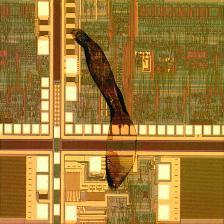COATING BAD: (69, 22, 143, 196)
